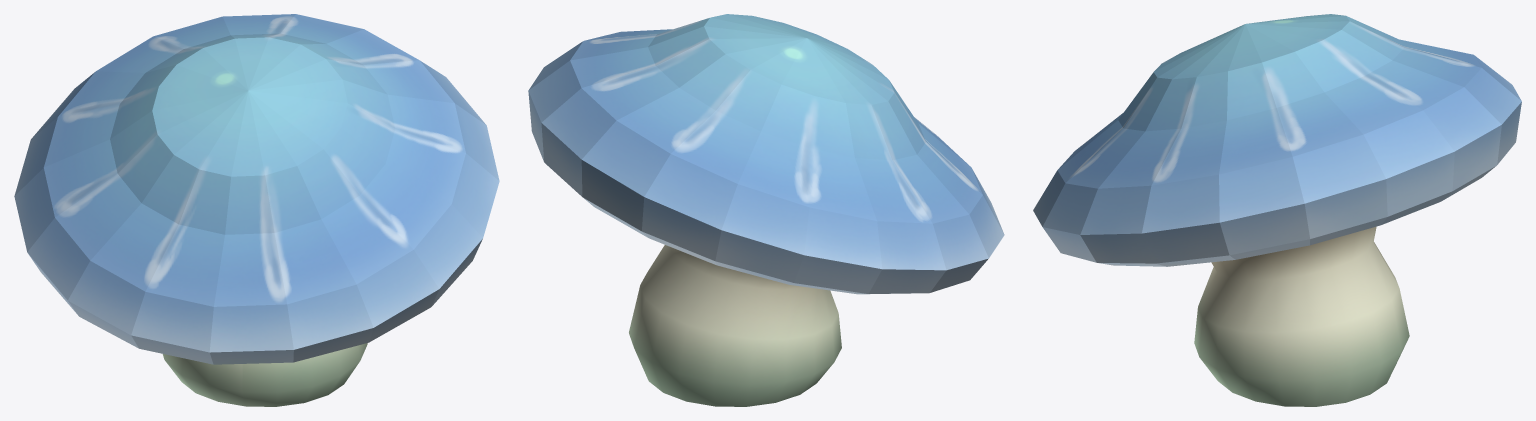
File: Mushroom_2.FBX
3 views of the same model, side by side, from view 1: azimuth 30°, elevation 25°; view 2: azimuth 150°, elevation 25°; view 3: azimuth 270°, elevation 25° (orthographic). The views are drawn at different scales.
Parts seen in each view (by area): view 1: Cylinder005; view 2: Cylinder005; view 3: Cylinder005.
Boxes of the visible parts, left/top/right/bottom form: Cylinder005: left=14, top=14, right=499, bottom=406; Cylinder005: left=528, top=14, right=1004, bottom=406; Cylinder005: left=1033, top=14, right=1521, bottom=406.
Size of the model in its own units: 13.8 by 10.53 by 13.89.
